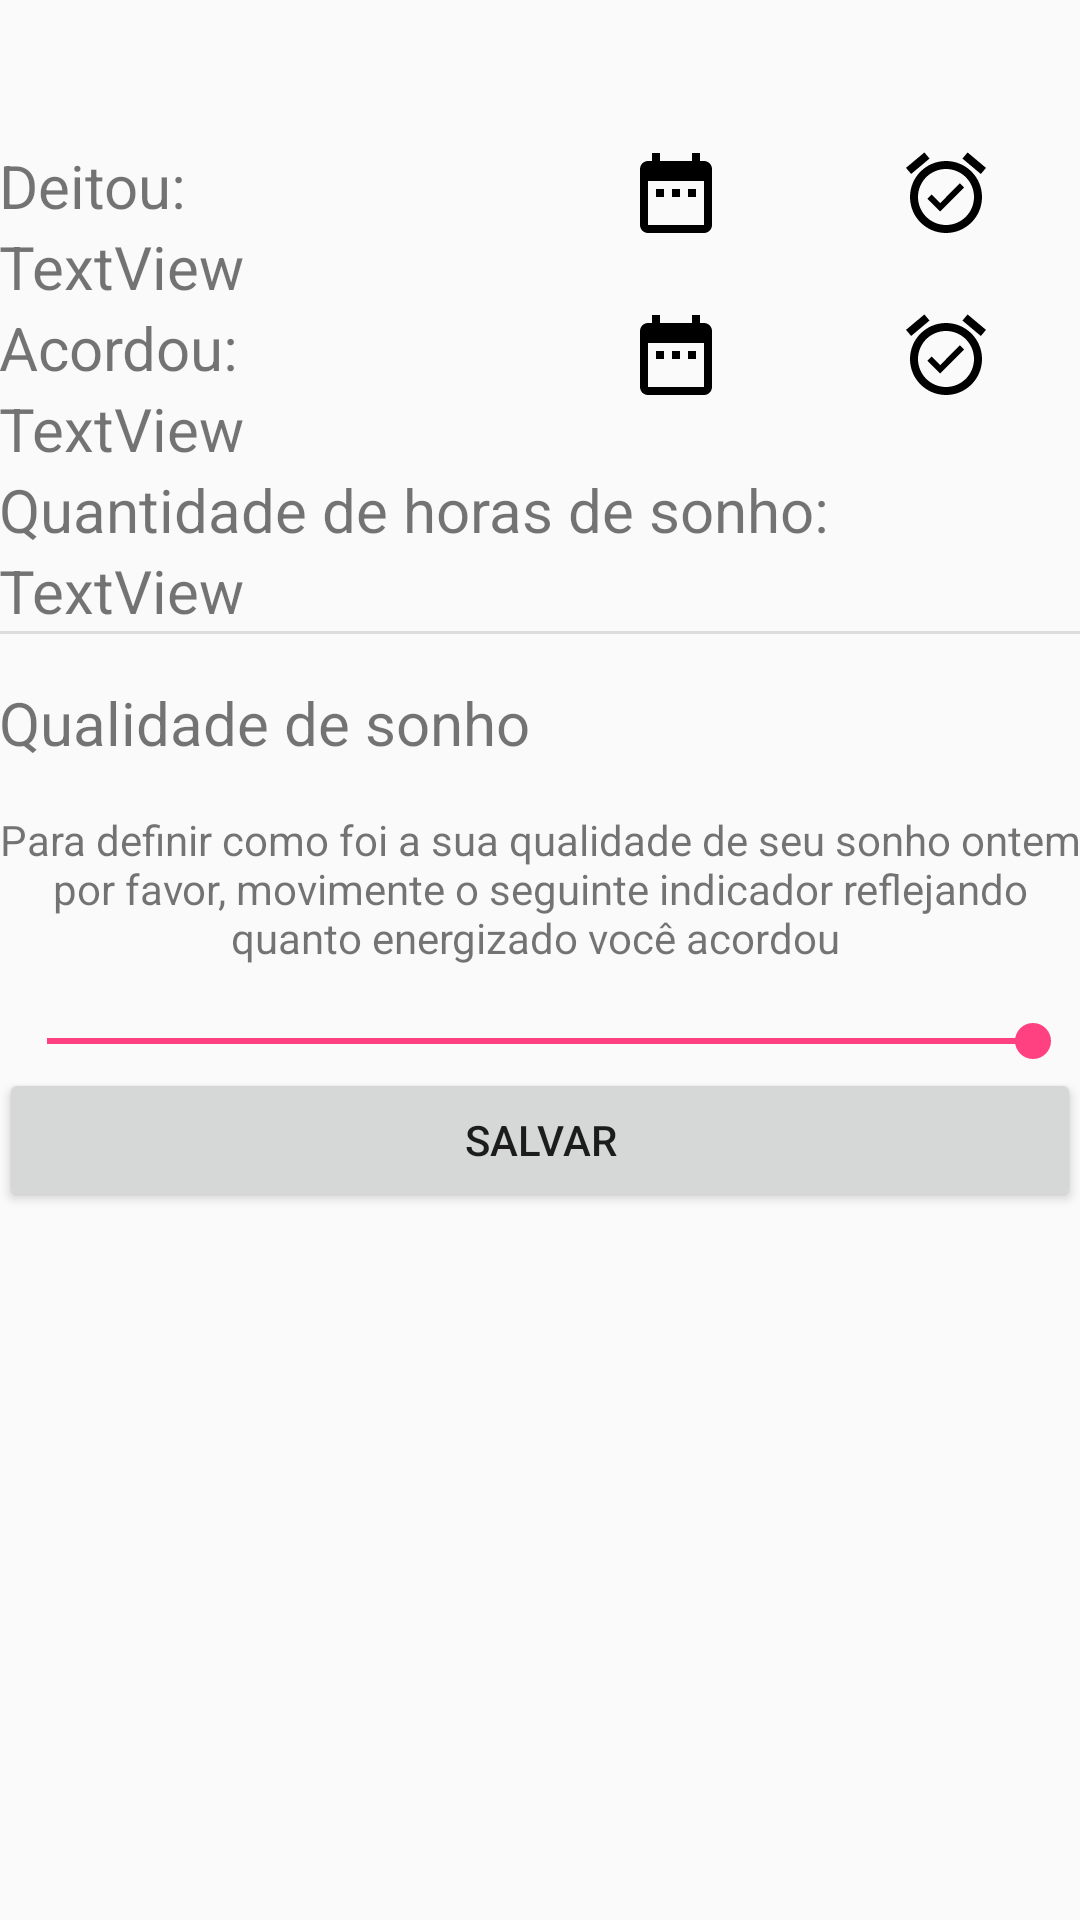

Icons on this 1080×1920 Android screen, each with its box as {"left": x1, "top": y1, "right": x2, "bottom": y2}:
alarm on: {"left": 906, "top": 152, "right": 986, "bottom": 233}, {"left": 906, "top": 314, "right": 986, "bottom": 395}
calendar: {"left": 640, "top": 153, "right": 712, "bottom": 233}, {"left": 640, "top": 315, "right": 712, "bottom": 395}
